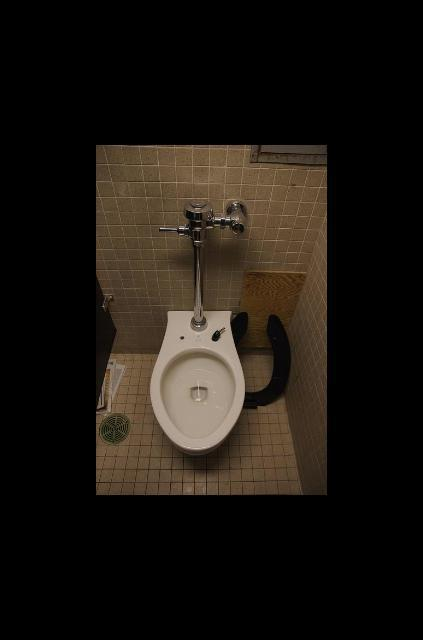Sanitario: (148, 303, 244, 457)
